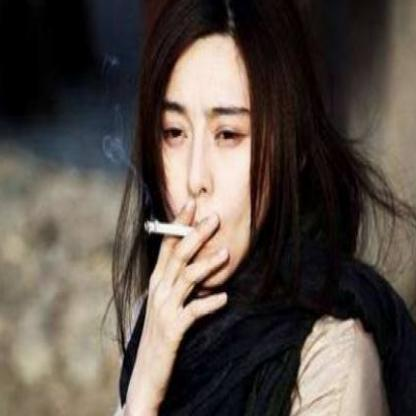cigarette: (144, 220, 199, 240)
person: (140, 0, 363, 415)
